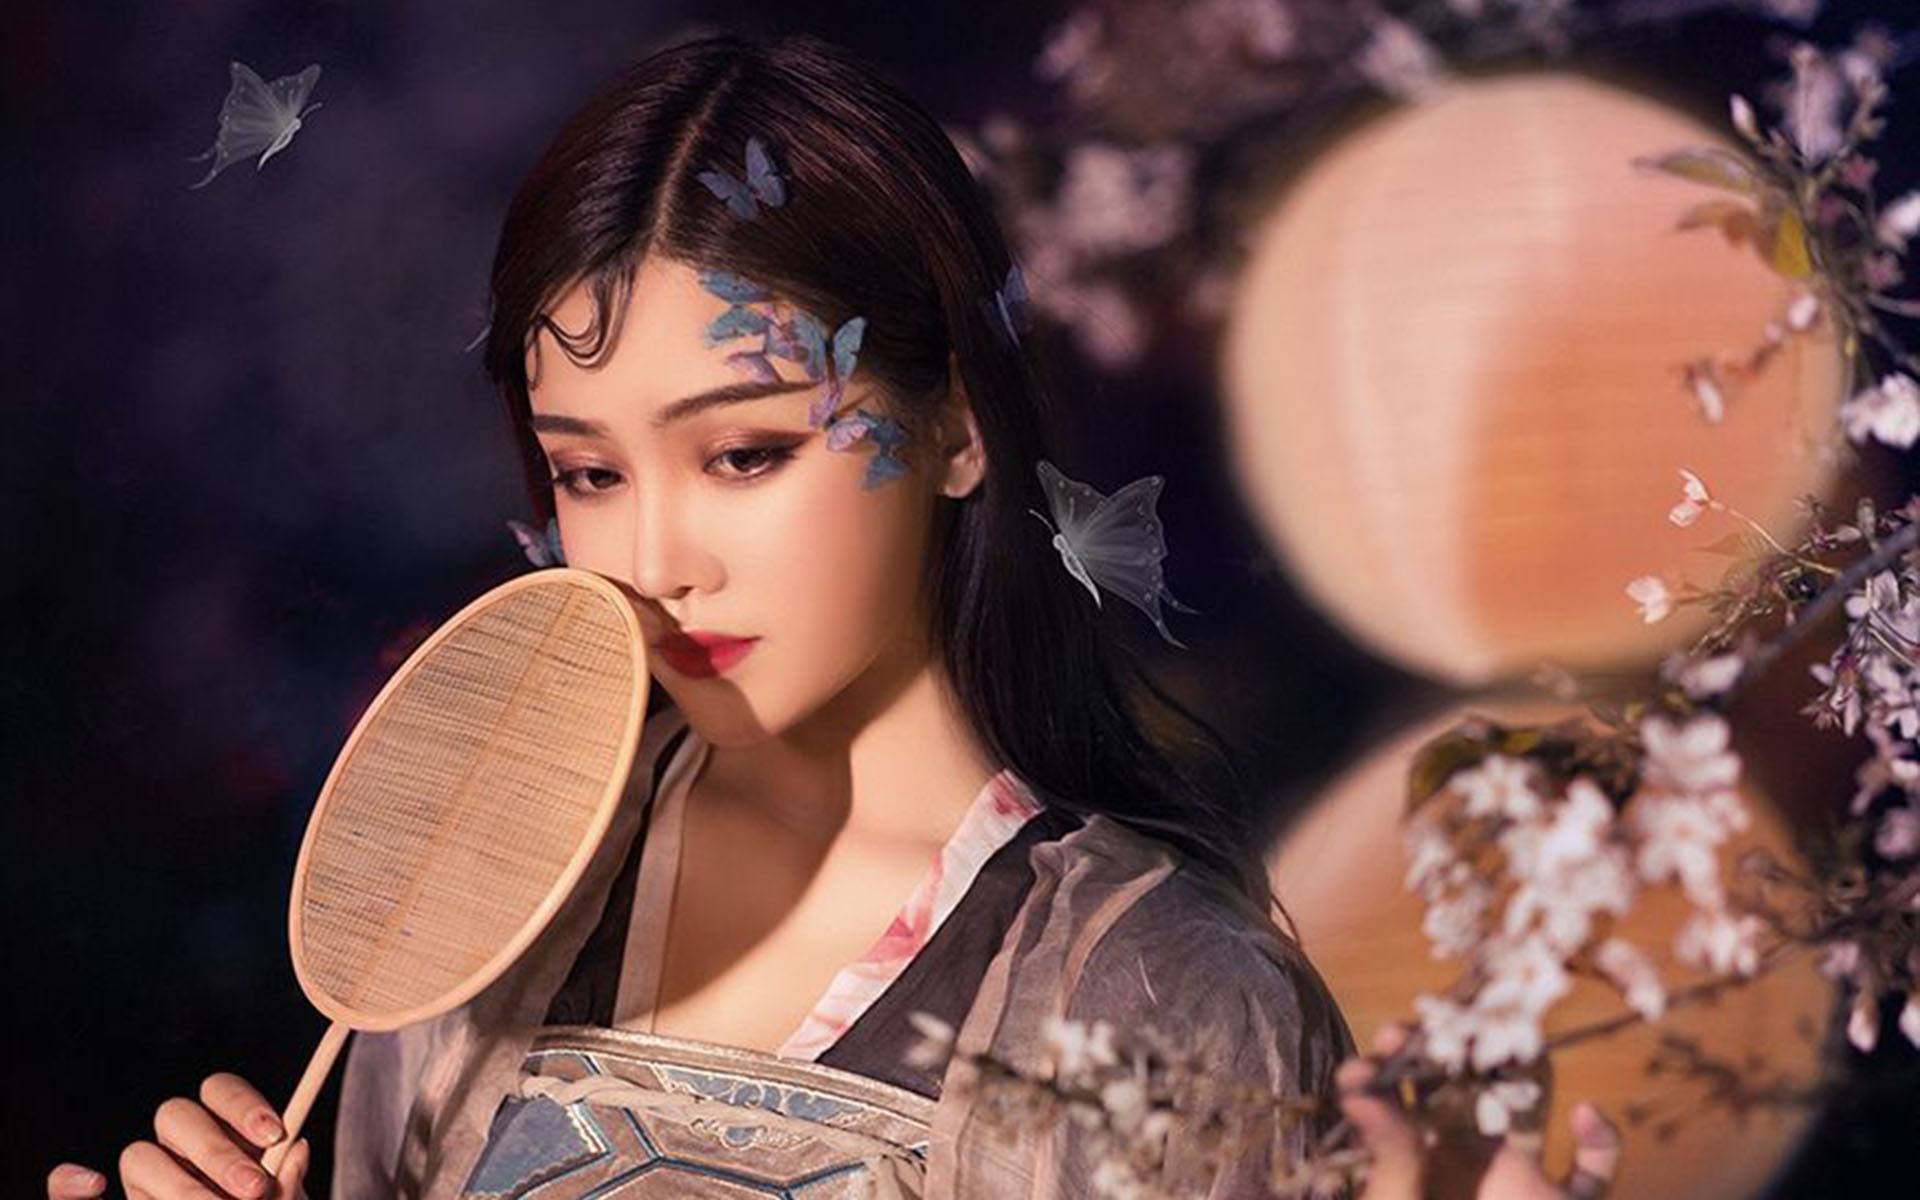person: (458, 54, 1158, 916)
